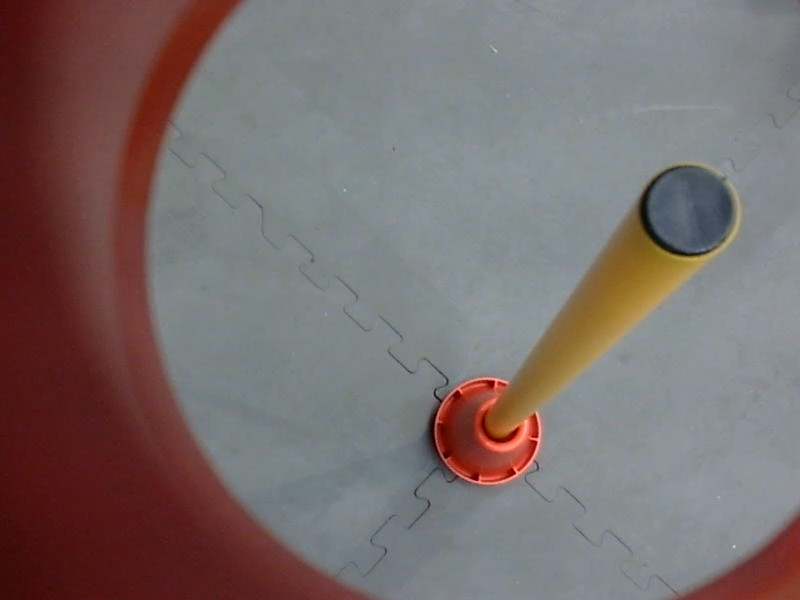tip: (635, 158, 741, 262)
